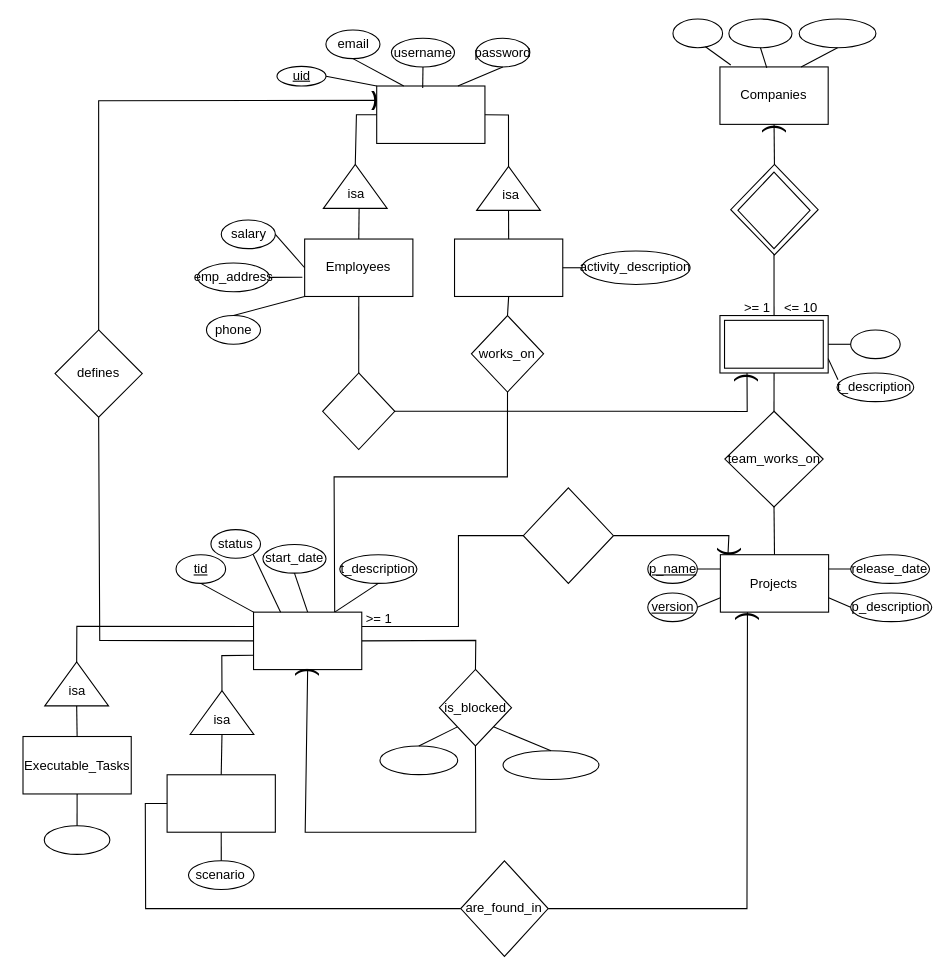
Image size: 950x976. Some labels were removed from this diagram. Here are the shapes that lost their labels. From the top down, the box of each, then its label:
(672, 18, 723, 48): c_name
(728, 18, 792, 48): c_address
(798, 18, 876, 48): c_description
(376, 85, 485, 143): Users
(737, 171, 810, 249): has_team
(453, 238, 563, 296): Amatuers
(723, 319, 823, 368): Teams
(850, 329, 900, 359): t_name
(322, 372, 395, 450): works_in
(522, 487, 613, 583): are_units_of
(252, 611, 362, 670): Tasks
(379, 745, 458, 775): blocking_date
(502, 750, 599, 779): unblocking_date
(166, 774, 275, 832): Bugs
(43, 825, 110, 854): deadline
